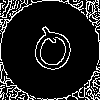Q: (25, 25, 78, 84)
